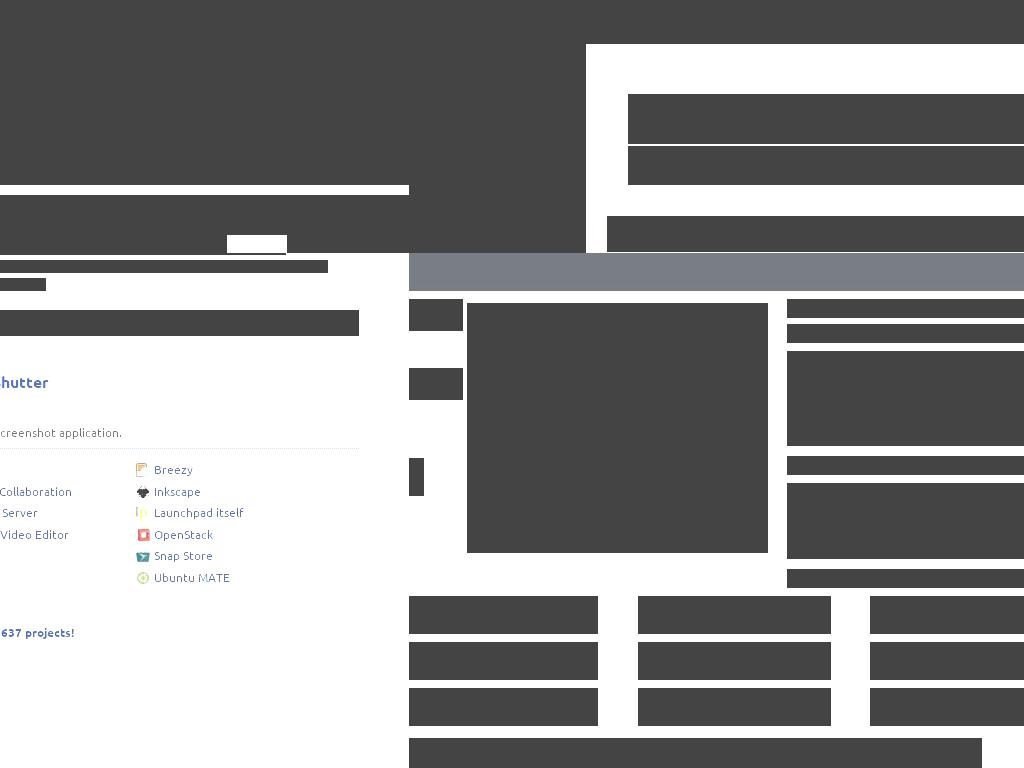button: (0, 0, 170, 175), (638, 596, 831, 634), (638, 642, 831, 680), (638, 688, 831, 726), (409, 596, 598, 634), (409, 642, 598, 680), (409, 688, 598, 726), (870, 596, 1024, 634), (870, 642, 1024, 680), (870, 688, 1024, 726), (787, 324, 1024, 343), (787, 456, 1024, 475), (787, 569, 1024, 588), (349, 76, 409, 150), (658, 4, 738, 44), (582, 4, 659, 44), (135, 500, 244, 526), (135, 564, 230, 590), (135, 521, 213, 547), (135, 543, 213, 569), (0, 478, 72, 504), (0, 521, 69, 547), (135, 478, 201, 504), (135, 463, 193, 482), (0, 500, 38, 526), (1013, 4, 1024, 44)
heading: (409, 0, 586, 253), (0, 310, 359, 336), (787, 299, 1024, 318), (787, 324, 1024, 343), (787, 456, 1024, 475), (787, 569, 1024, 588), (0, 373, 49, 392)
iframe: (467, 303, 768, 553), (409, 738, 982, 768)
image: (0, 0, 409, 185), (409, 0, 1024, 44), (413, 0, 573, 124)
link: (628, 146, 1024, 185), (432, 188, 527, 203), (791, 146, 871, 163), (717, 146, 788, 163), (432, 207, 502, 222), (0, 626, 71, 640), (432, 226, 495, 241), (432, 150, 489, 165), (121, 260, 180, 273), (432, 169, 483, 184), (0, 278, 43, 291)
text: (0, 0, 169, 179), (787, 351, 1024, 446), (628, 94, 1024, 144), (787, 483, 1024, 559), (607, 216, 1024, 252), (0, 195, 257, 235), (0, 424, 359, 449), (257, 195, 409, 235), (349, 93, 409, 149), (349, 0, 409, 50), (871, 146, 1002, 163), (179, 260, 328, 273), (0, 260, 122, 273), (628, 146, 719, 163), (349, 76, 409, 88), (70, 626, 74, 640), (42, 278, 46, 291)
